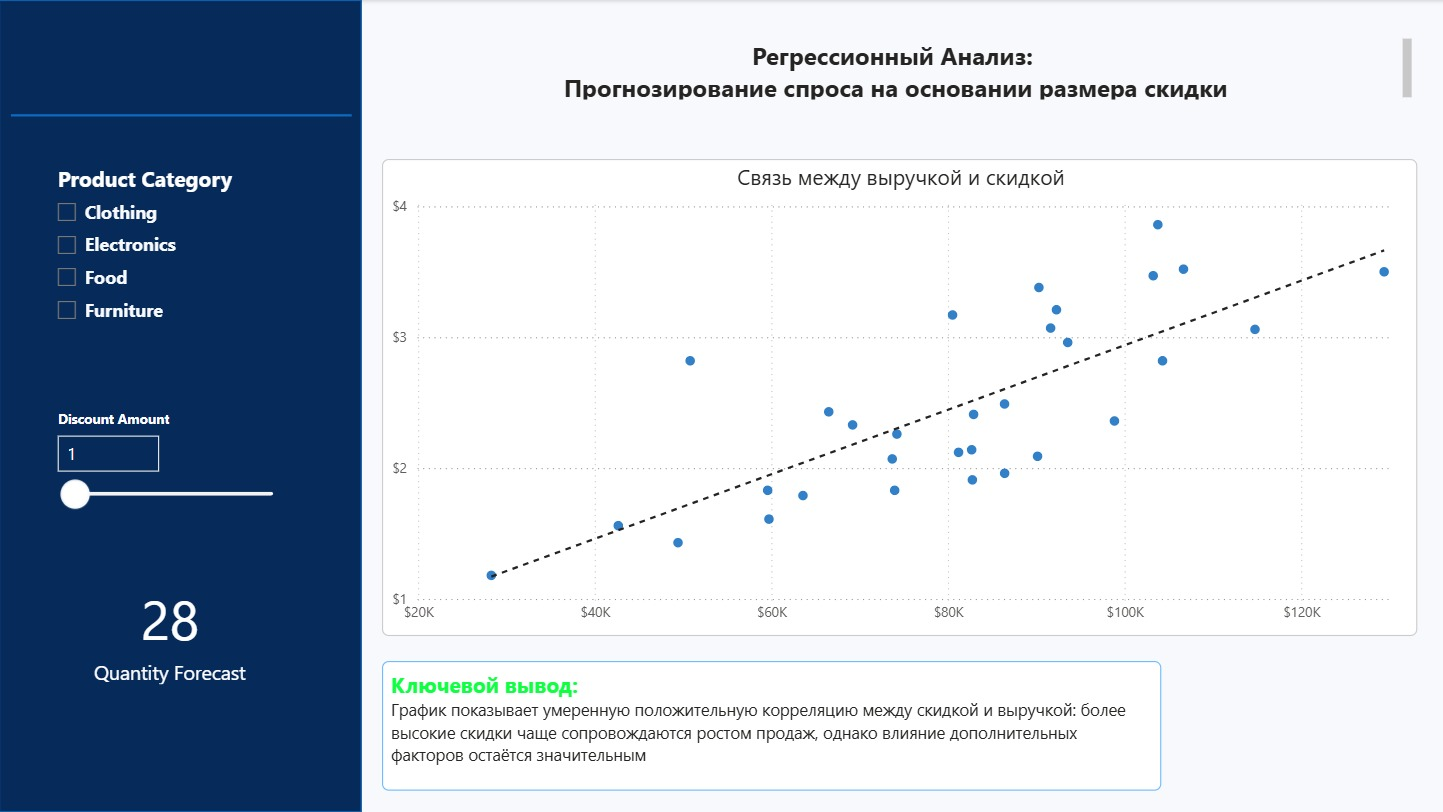

What the dashboard file says about the page in this screenshot:
{"tool":"powerbi","page":{"name":"Regression Forecasting","canvas":[1280,720],"ordinal":1},"visuals":[{"type":"shape","box":[0,0,321.6,720.2],"z":0},{"type":"scatterChart","title":"Связь между выручкой и скидкой","fields":{"Category":["sales_data.Sale_Date.Variation.Date Hierarchy.Day"],"X":["Sum(sales_data.Sales_Amount)"],"Y":["Sum(sales_data.Discount)"]},"box":[339.9,140.6,918.3,423.1],"z":1000},{"type":"cardVisual","fields":{"Data":["RegressionStats.Regression Forecast"]},"box":[39.1,479.4,225,163.9],"z":2000},{"type":"slicer","fields":{"Values":["Discount Amount.Discount Amount"]},"box":[39.1,358.3,225,121.1],"z":3000},{"type":"slicer","fields":{"Values":["sales_data.Product_Category"]},"box":[39.1,140.6,225,172.4],"z":4000},{"type":"textbox","box":[339.9,29.3,918.3,63.6],"z":5000},{"type":"shape","box":[11,92.9,302,18.3],"z":6000},{"type":"textbox","box":[339.9,585.7,690.9,114.9],"z":7000}]}

Visuals, with their boxes on the page's 1280x720 design canvas (x1, y1, x2, y2). These are canvas units, not pixel positions in the 1443x812 screenshot, which may show the page scaled, cropped or inside an application window:
shape: select_region(0, 0, 322, 720)
"Связь между выручкой и скидкой" scatterChart: select_region(340, 141, 1258, 564)
cardVisual - RegressionStats.Regression Forecast: select_region(39, 479, 264, 643)
slicer - Discount Amount.Discount Amount: select_region(39, 358, 264, 479)
slicer - sales_data.Product_Category: select_region(39, 141, 264, 313)
textbox: select_region(340, 29, 1258, 93)
shape: select_region(11, 93, 313, 111)
textbox: select_region(340, 586, 1031, 701)
